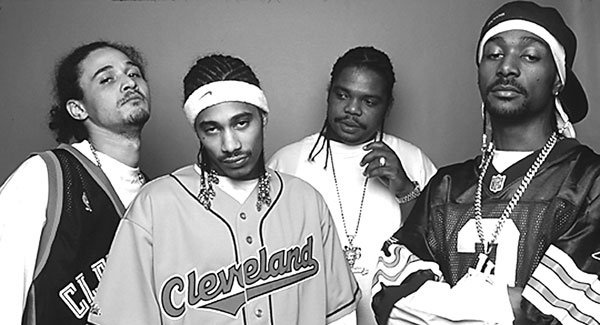bad: (469, 38, 544, 113), (88, 55, 162, 130), (196, 105, 270, 179), (325, 84, 377, 136)
